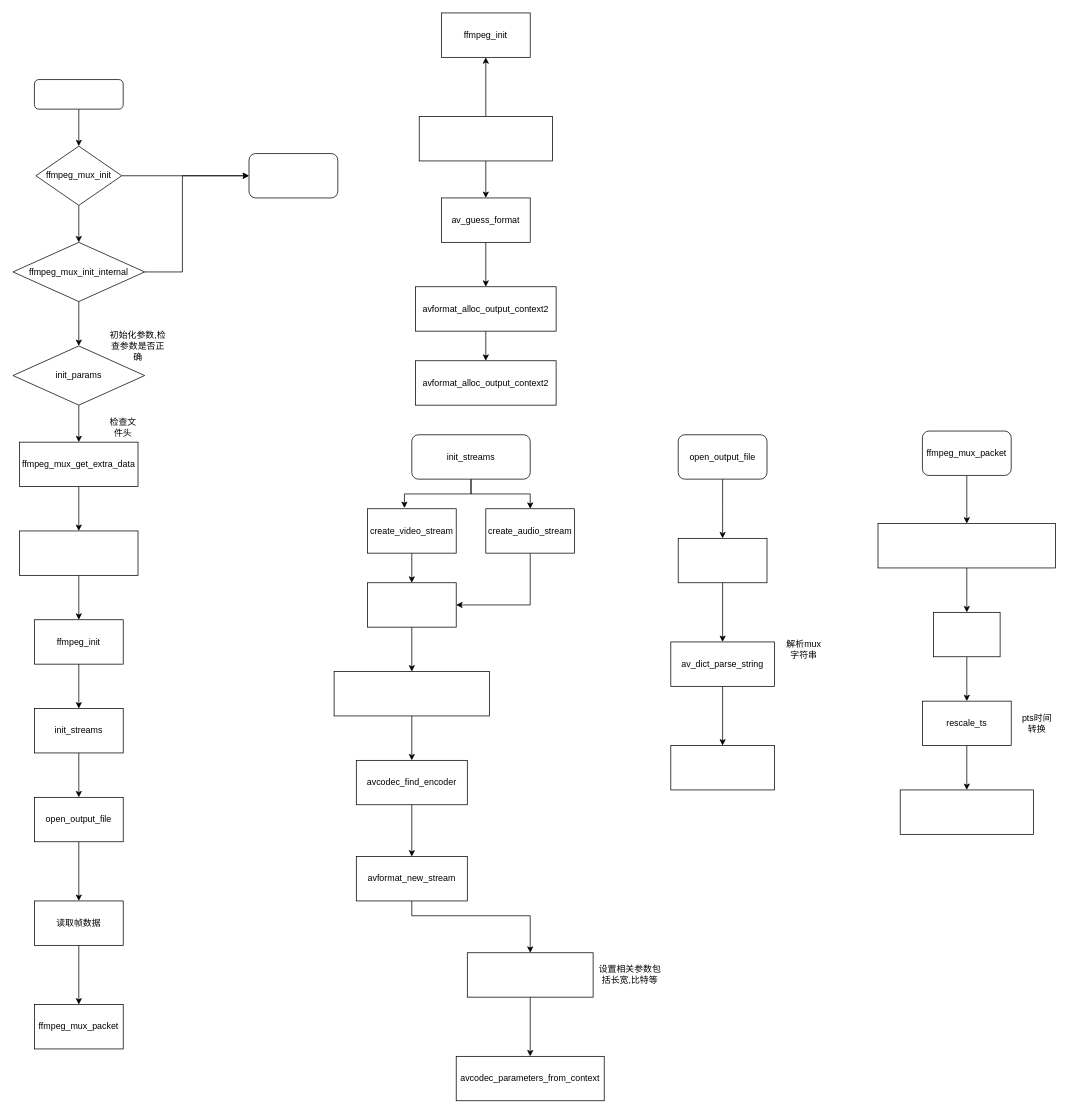
This 1069x1114 diagram has some shape labels left out. Here are the shapes that lost their labels. From the top down, the centre of each, then its label:
At [78,94]: "ffmpeg-mux.c".
At [485,138]: "avformat_network_init".
At [293,175]: "FFM_ERROR".
At [78,552]: "ffmpeg_mux_init_context".
At [722,560]: "avio_open".
At [966,545]: "get_codec_context(ffm, info)->time_base;".
At [411,604]: "new_stream".
At [966,634]: "av_init_packet".
At [411,693]: "avcodec_descriptor_get_by_name".
At [722,767]: "avformat_write_header".
At [966,811]: "av_interleaved_write_frame".
At [530,974]: "avcodec_alloc_context3".
